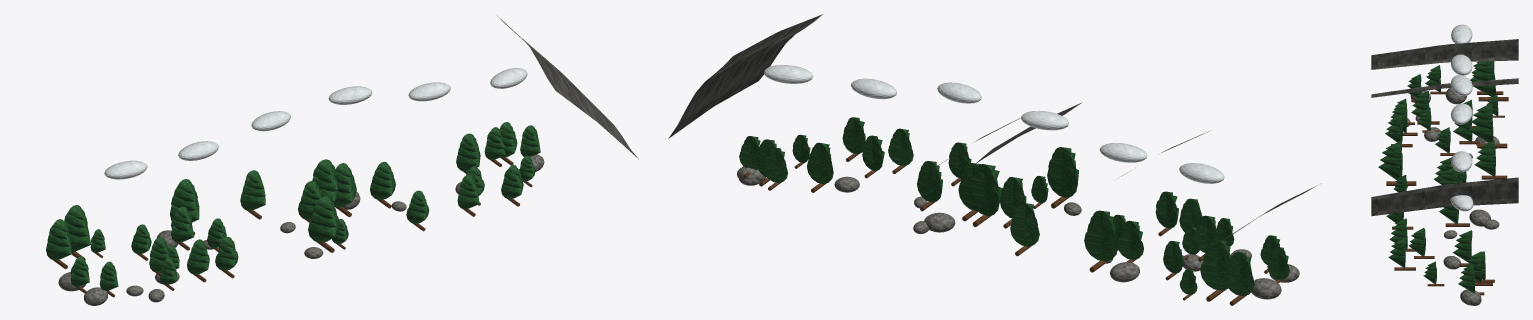
File: background_pine_ridge_mp_batched.glb
The picture shows the model from 3 angles, left to right: view 1: azimuth 30°, elevation 25°; view 2: azimuth 150°, elevation 25°; view 3: azimuth 270°, elevation 25°; orthographic projection. The views are drawn at different scales.
Visible parts, largest first — view 1: StaticGeometry; view 2: StaticGeometry; view 3: StaticGeometry.
Part boxes in pixels (bbox=[...]): StaticGeometry: bbox=[46, 15, 638, 305]; StaticGeometry: bbox=[668, 14, 1316, 305]; StaticGeometry: bbox=[1371, 24, 1518, 305].
Size of the model in its own units: 82 by 20.54 by 22.
Materials: 4 (4 with a texture image).
